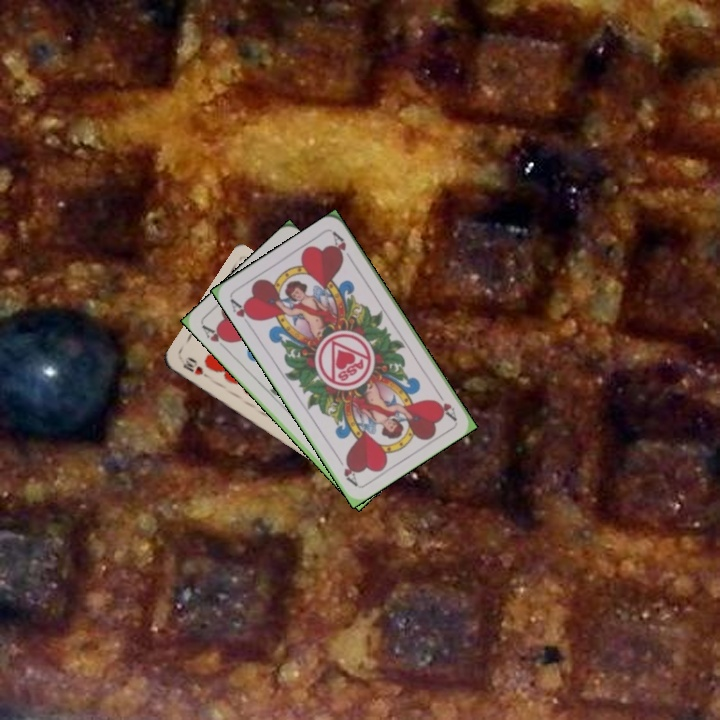H10: (179, 354, 214, 382)
HA: (226, 294, 258, 331), (198, 321, 232, 352), (432, 386, 459, 423)
